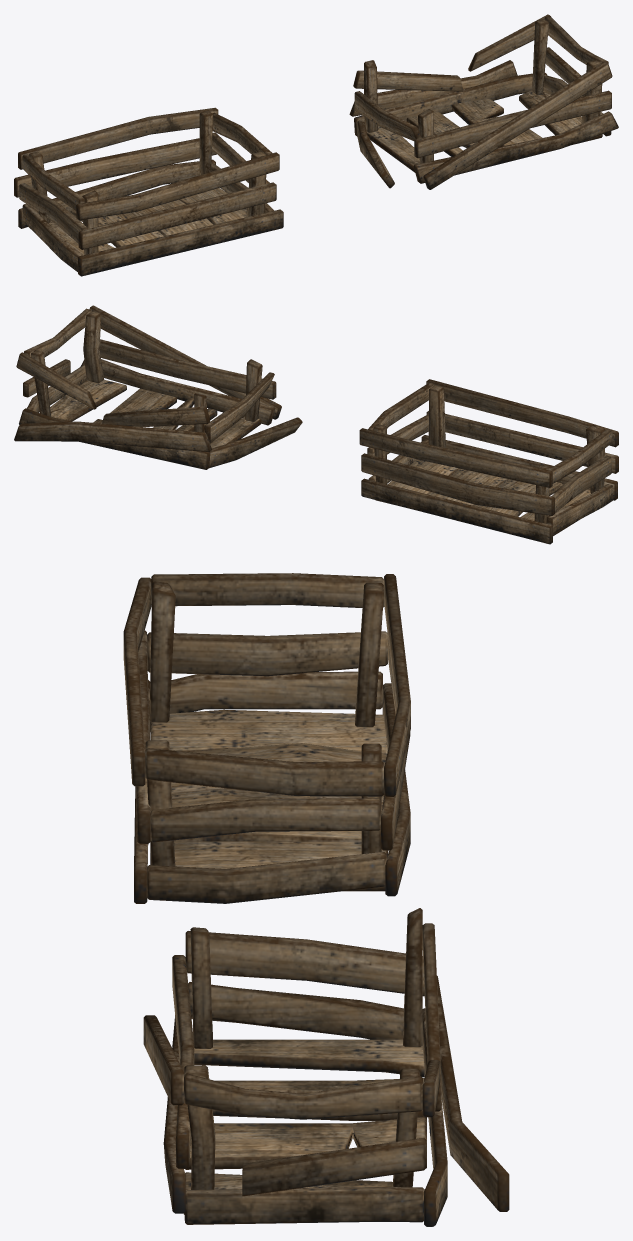
File: wooden_dirty_crates_-_broken_whole_2_piece_set.glb
The picture shows the model from 3 angles, top to bottom: view 1: azimuth 30°, elevation 25°; view 2: azimuth 150°, elevation 25°; view 3: azimuth 270°, elevation 25°; orthographic projection. The views are drawn at different scales.
Visible parts, largest first — view 1: Crate_01_GEO, Crate_02_GEO; view 2: Crate_01_GEO, Crate_02_GEO; view 3: Crate_01_GEO, Crate_02_GEO.
Boxes of the visible parts, box(x1,y1,x2,y2) form: Crate_01_GEO: box(14, 107, 283, 276); Crate_02_GEO: box(349, 14, 618, 189); Crate_01_GEO: box(359, 379, 618, 544); Crate_02_GEO: box(14, 305, 302, 469); Crate_01_GEO: box(123, 573, 410, 903); Crate_02_GEO: box(143, 908, 509, 1226).
Size of the model in its own units: 2.62 by 0.3524 by 0.825.
Materials: 1 (1 with a texture image).
